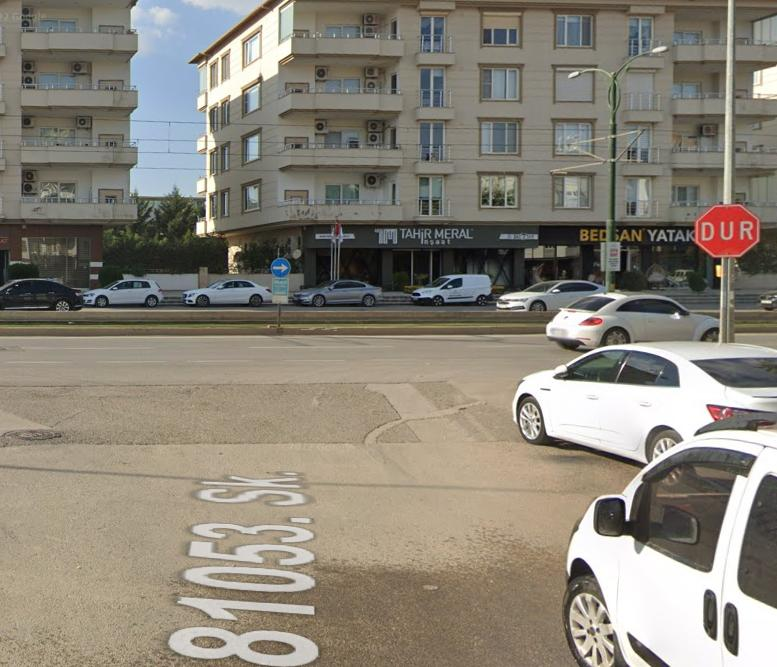stop: (696, 205, 762, 261)
